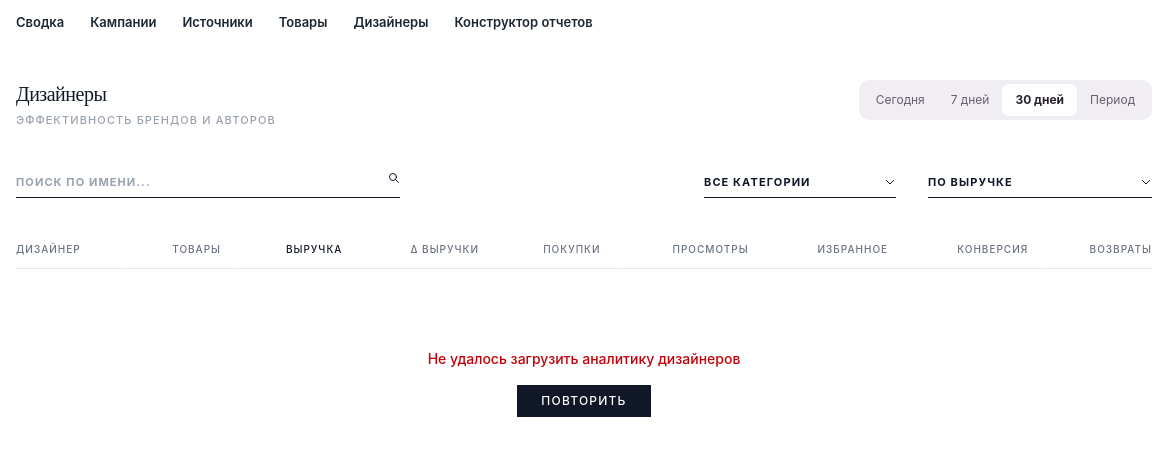
Test: AdminMarketingDesigners Component Tests › 6. error state and retry button refetches data upon click
Check: the text "Не удалось загрузить аналитику дизайнеров" is shown, box [428, 350, 740, 367]
What coordinates should you click on to do the following:
click the button "Повторить"
I would click on:
 (584, 401)
Its box is [517, 385, 651, 417].
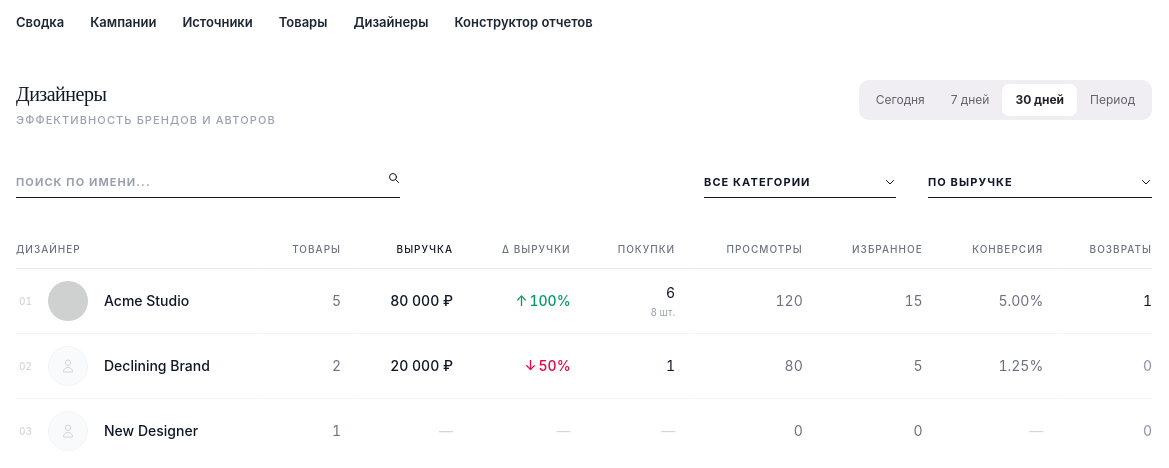
Check: the text "Не удалось загрузить аналитику дизайнеров" is gone
Check: the text "Acme Studio" is shown, box [104, 291, 189, 310]
